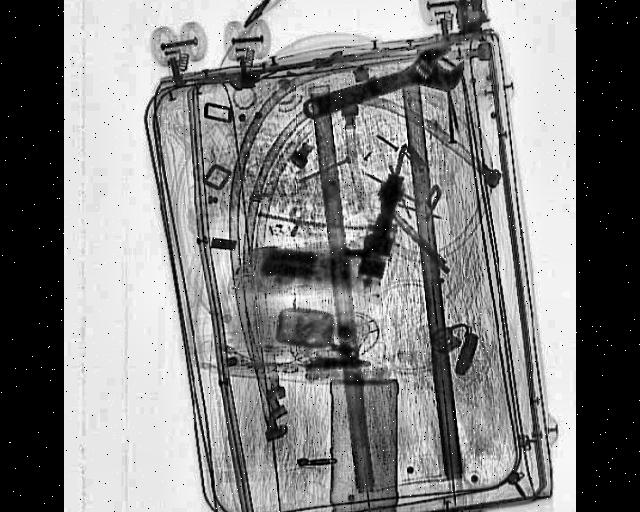Wrench: (300, 36, 468, 126)
